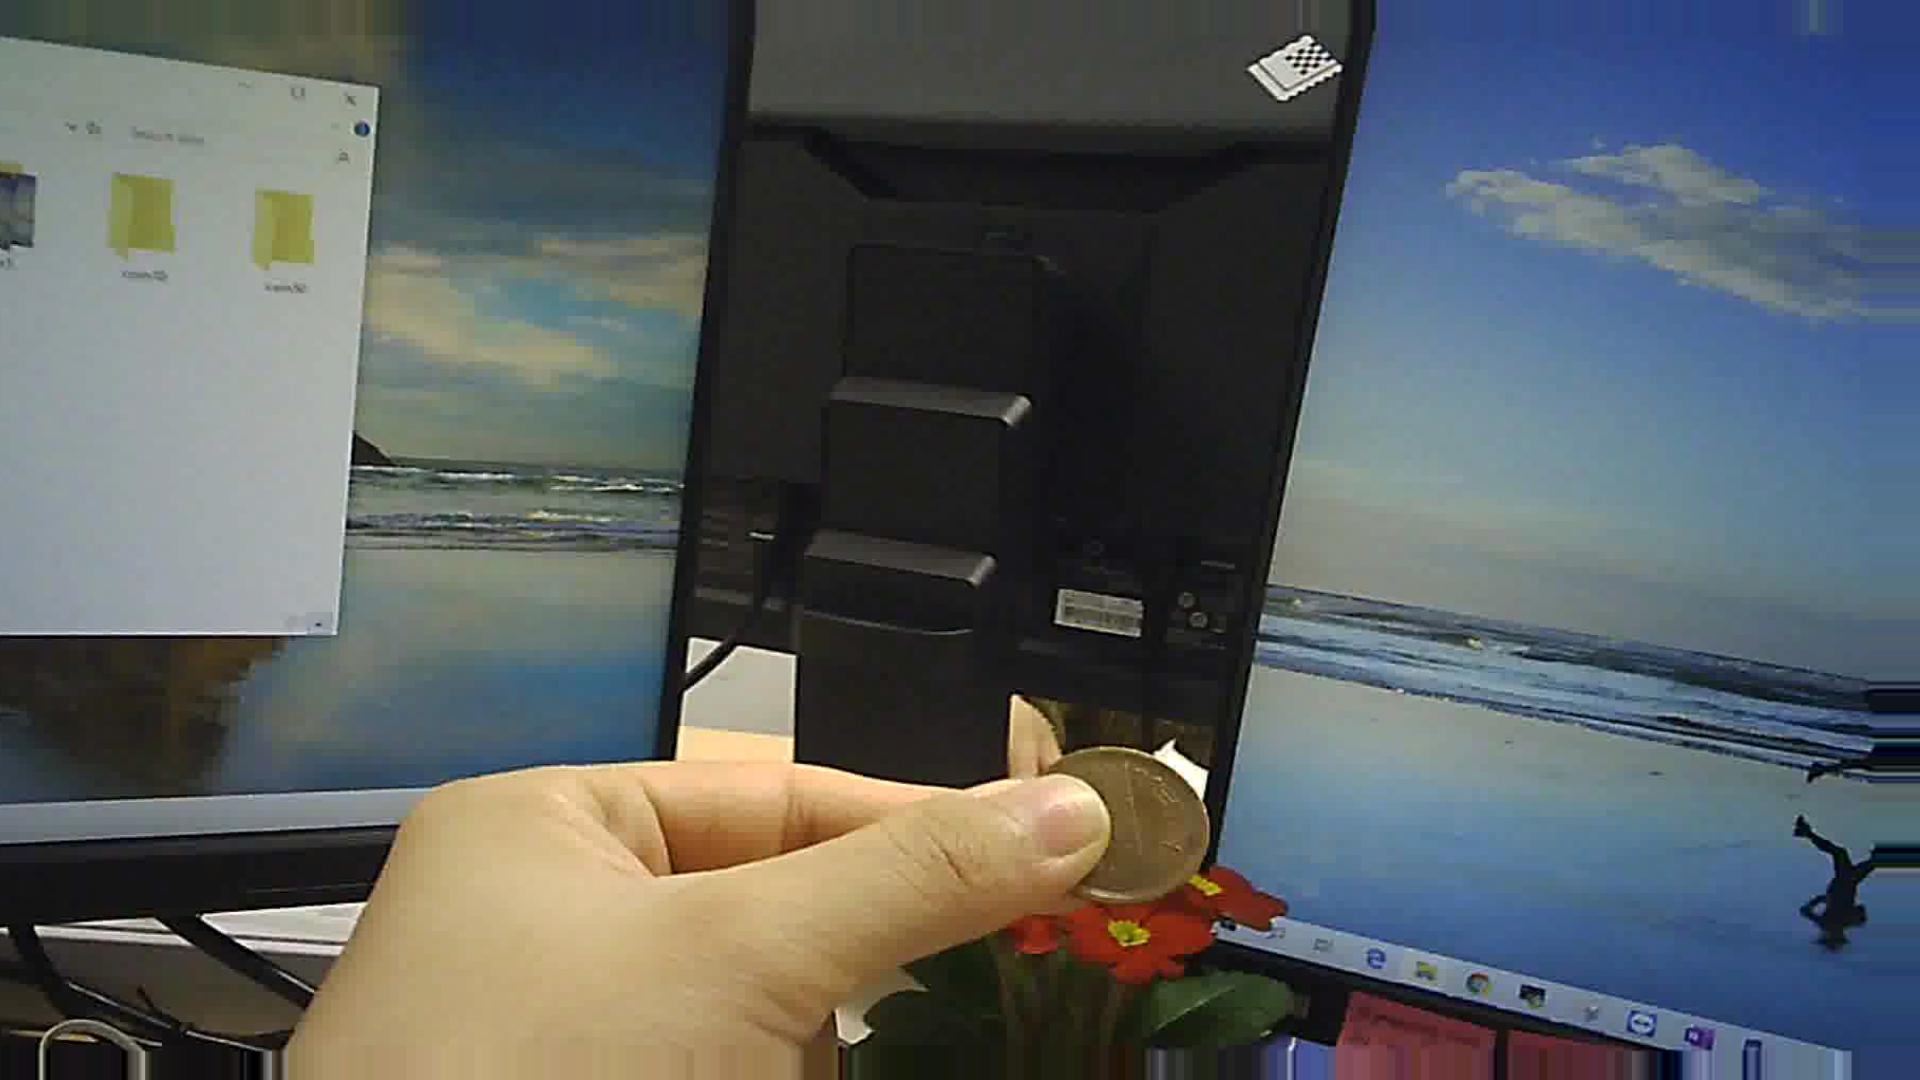10 Yen: (1044, 738, 1222, 906)
